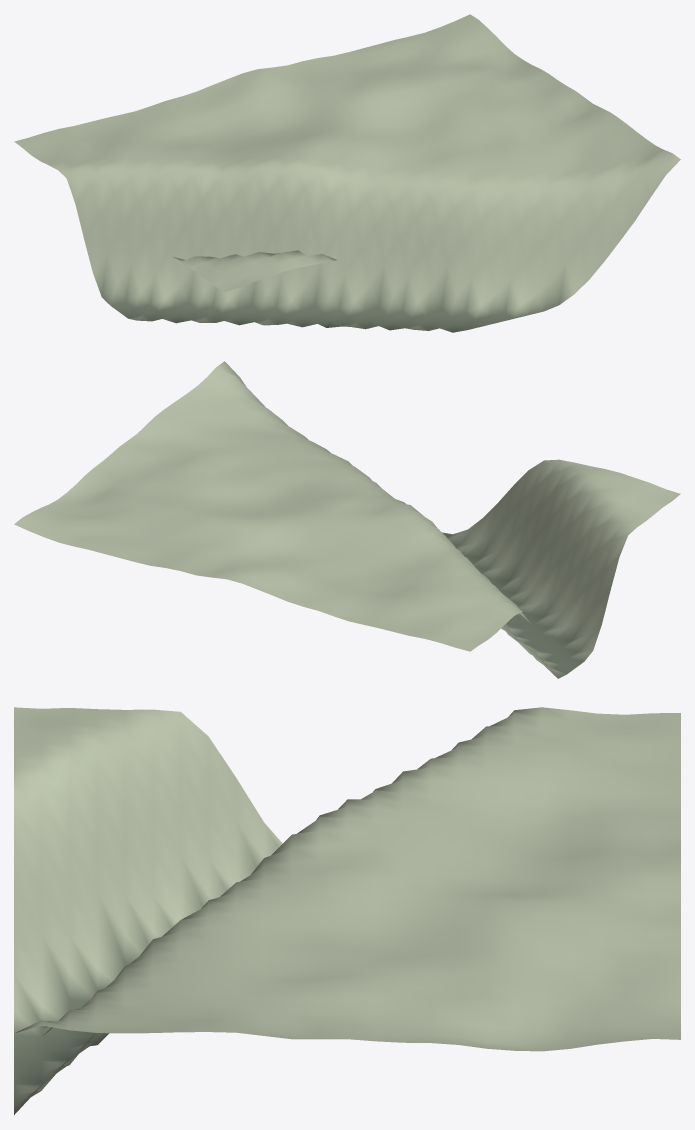
3 renders of one model, top to bottom at view 1: azimuth 30°, elevation 25°; view 2: azimuth 150°, elevation 25°; view 3: azimuth 270°, elevation 25°, orthographic. The views are drawn at different scales.
Visible parts, largest first — view 1: world-ground/150-120; view 2: world-ground/150-120; view 3: world-ground/150-120.
Part boxes in pixels (x1,y1,x2,y2): world-ground/150-120: [14, 14, 680, 332]; world-ground/150-120: [14, 361, 680, 678]; world-ground/150-120: [14, 707, 680, 1114].
Size of the model in its own units: 37.5 by 9.32 by 30.
